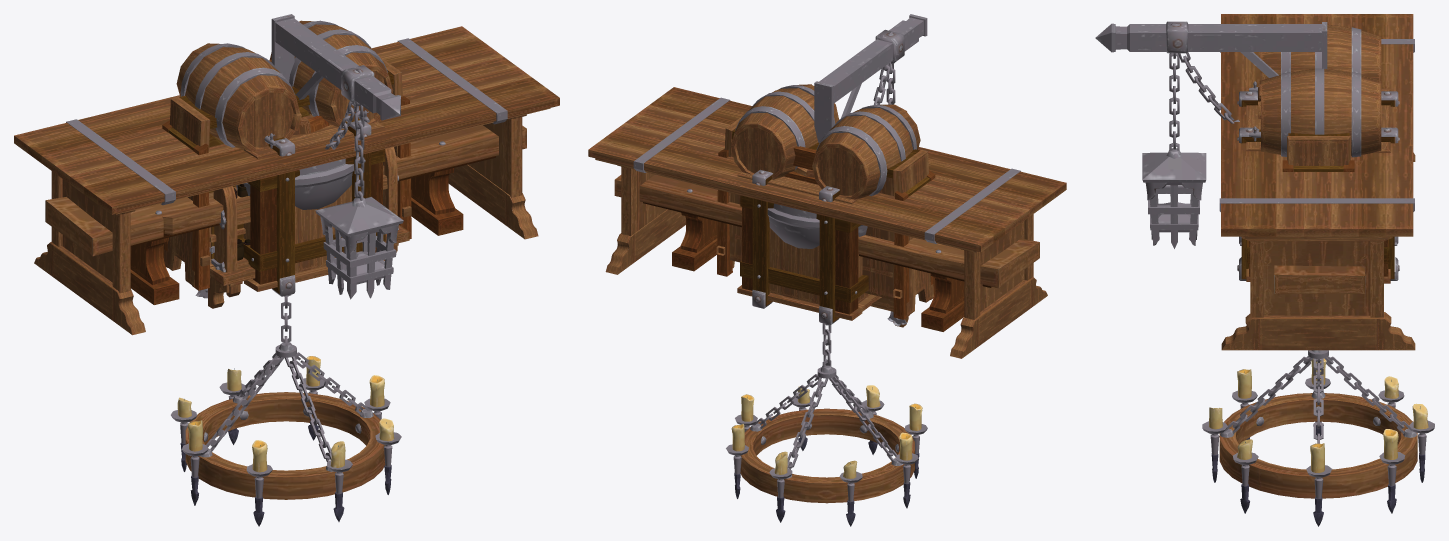
File: props.glb
3 views of the same model, side by side, from view 1: azimuth 30°, elevation 25°; view 2: azimuth 150°, elevation 25°; view 3: azimuth 270°, elevation 25° (orthographic). The views are drawn at different scales.
Visible parts, largest first — view 1: Table_Large, Chandelier, Barrel_Holder, Bench, Lantern_Wall, Crate_Wooden, Cabinet, Shelf_Small_Bottles, Cauldron, Shelf_Simple; view 2: Table_Large, Barrel_Holder, Chandelier, Crate_Wooden, Bench, Lantern_Wall, Cabinet, Cauldron, Chair_1; view 3: Table_Large, Chandelier, Barrel_Holder, Lantern_Wall, Crate_Wooden, Bench, Cabinet.
Part boxes in pixels (x1=…): Table_Large: x1=14, y1=26, x2=559, y2=335; Chandelier: x1=171, y1=294, x2=401, y2=526; Barrel_Holder: x1=162, y1=20, x2=411, y2=290; Bench: x1=45, y1=125, x2=526, y2=304; Lantern_Wall: x1=271, y1=14, x2=403, y2=299; Crate_Wooden: x1=237, y1=119, x2=385, y2=296; Cabinet: x1=164, y1=55, x2=402, y2=286; Shelf_Small_Bottles: x1=210, y1=147, x2=398, y2=292; Cauldron: x1=236, y1=158, x2=353, y2=209; Shelf_Simple: x1=208, y1=225, x2=409, y2=308; Table_Large: x1=588, y1=87, x2=1066, y2=358; Barrel_Holder: x1=716, y1=84, x2=935, y2=319; Chandelier: x1=726, y1=323, x2=927, y2=526; Crate_Wooden: x1=737, y1=169, x2=881, y2=324; Bench: x1=614, y1=174, x2=1039, y2=331; Lantern_Wall: x1=814, y1=14, x2=927, y2=142; Cabinet: x1=724, y1=115, x2=933, y2=316; Cauldron: x1=767, y1=203, x2=867, y2=248; Chair_1: x1=784, y1=146, x2=817, y2=184; Table_Large: x1=1219, y1=14, x2=1415, y2=350; Chandelier: x1=1202, y1=350, x2=1434, y2=526; Barrel_Holder: x1=1249, y1=24, x2=1381, y2=171; Lantern_Wall: x1=1095, y1=21, x2=1327, y2=248; Crate_Wooden: x1=1237, y1=88, x2=1399, y2=283; Bench: x1=1274, y1=265, x2=1365, y2=293; Cabinet: x1=1287, y1=133, x2=1350, y2=169.
Size of the model in its own units: 2.85 by 2.84 by 1.9.
Materials: 3 (3 with a texture image).
